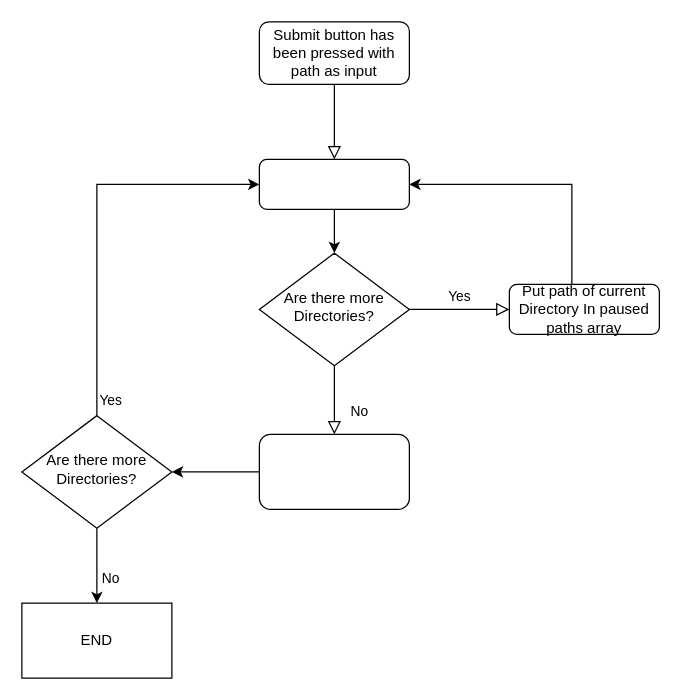
The diagram is 681 pixels wide and 700 high, and some of its shapes have lost their labels. The shapes that lost their labels are listed below. From the top down, each one's centre as x and y in pixels, then its label:
At point 333,183: "Retrieve Directories and files at path".
At point 333,471: "Rename All files in Base path folder to exclude the input string".
